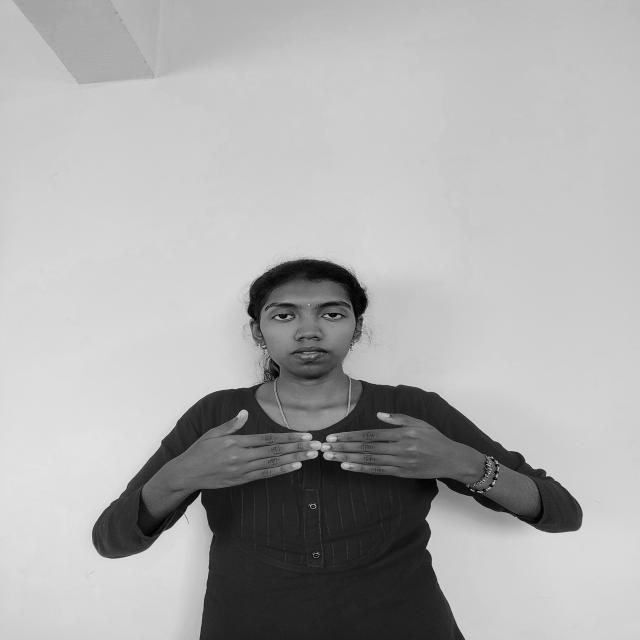Night: (175, 406, 477, 500)
